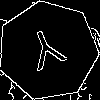Y: (23, 26, 72, 81)
